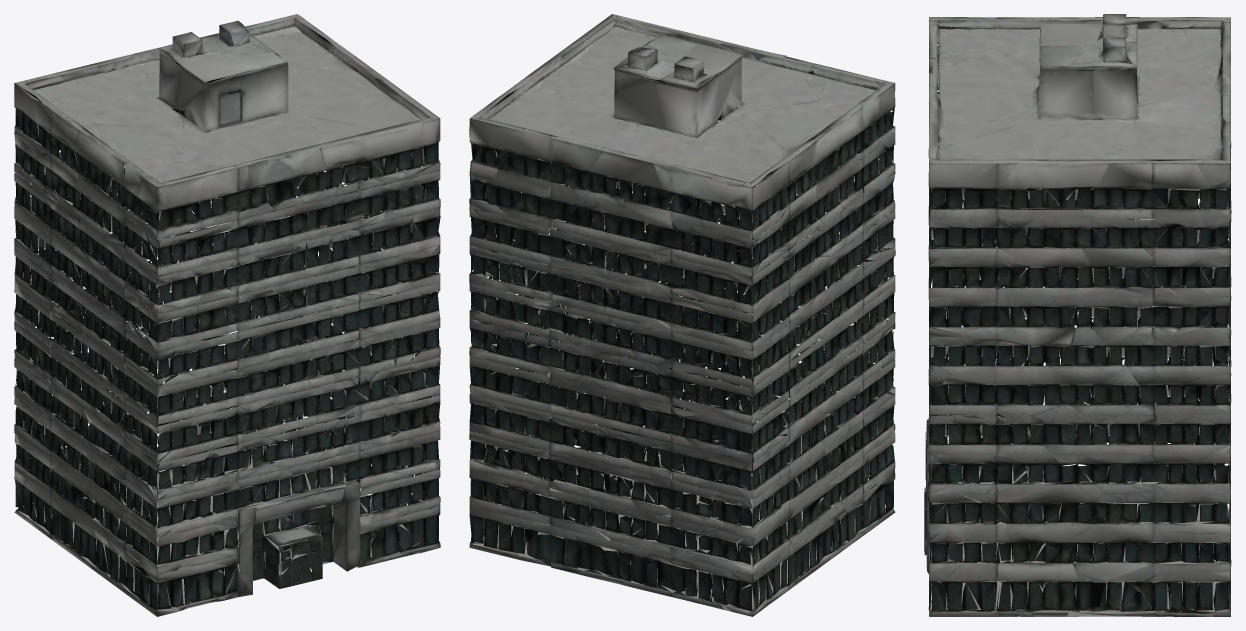
File: tower-01-glass-office.far.glb
3 views of the same model, side by side, from view 1: azimuth 30°, elevation 25°; view 2: azimuth 150°, elevation 25°; view 3: azimuth 270°, elevation 25° (orthographic). The views are drawn at different scales.
Visible parts, largest first — view 1: geometry_0; view 2: geometry_0; view 3: geometry_0.
Part boxes in pixels (x1,y1,x2,y2): geometry_0: (14, 14, 440, 616); geometry_0: (469, 14, 895, 616); geometry_0: (924, 14, 1231, 616).
Bounding box in the file's own units: 1.16 × 1.9 × 1.03.
1 material, 1 textured.
